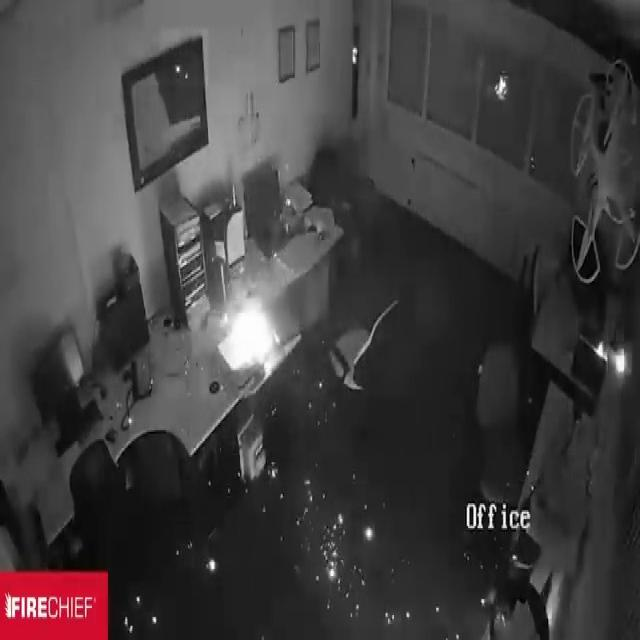fire: (218, 271, 286, 392)
